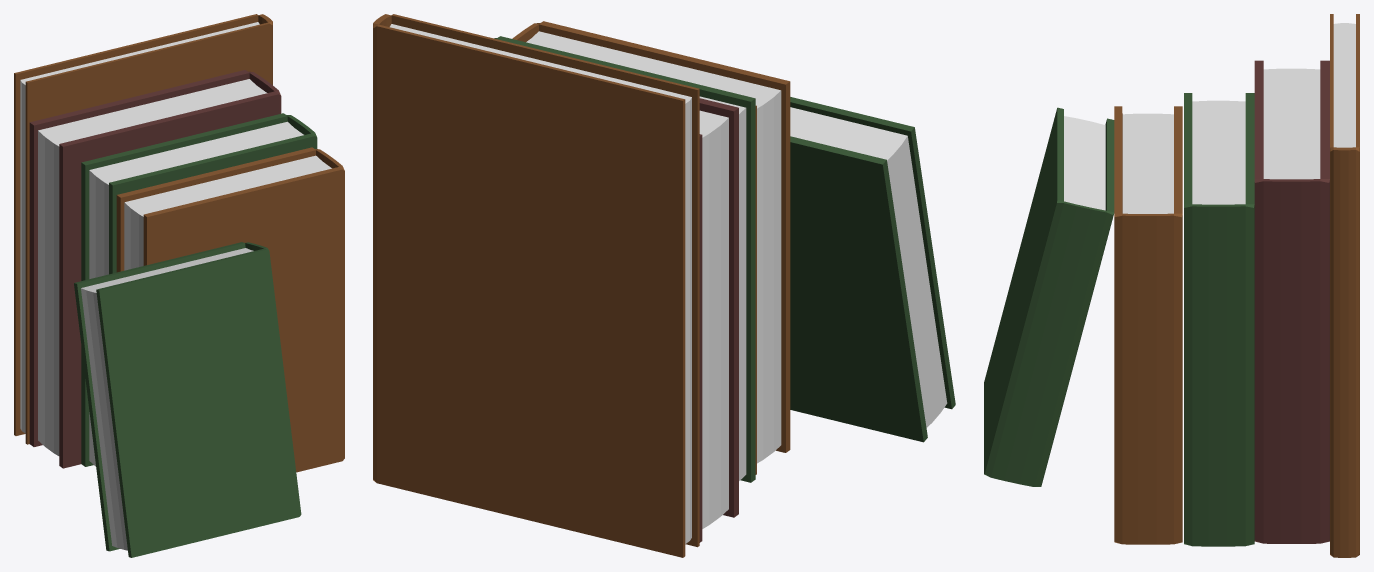
File: VJ_R_PackLlibres_03.fbx
3 views of the same model, side by side, from view 1: azimuth 30°, elevation 25°; view 2: azimuth 150°, elevation 25°; view 3: azimuth 270°, elevation 25° (orthographic). The views are drawn at different scales.
Parts seen in each view (by area): view 1: R_PackLlibres_02; view 2: R_PackLlibres_02; view 3: R_PackLlibres_02.
Part boxes in pixels (left/top/right/bottom): R_PackLlibres_02: left=14, top=14, right=344, bottom=557; R_PackLlibres_02: left=373, top=14, right=955, bottom=557; R_PackLlibres_02: left=984, top=14, right=1359, bottom=557.
Size of the model in its own units: 5.11 by 5.95 by 4.97.
